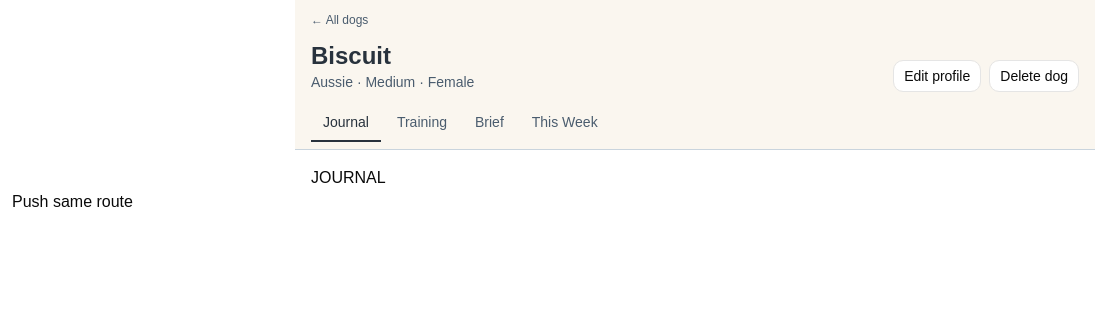
DogLayout › clears the stale guided setup conflict after navigating to another dog tab
Click the button "Delete dog" at (1034, 76), box [989,60,1079,92]
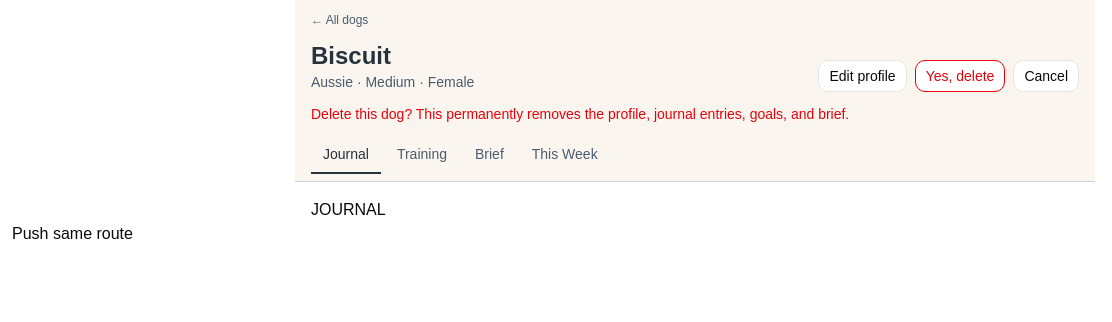
Click the button "Yes, delete" at (960, 76), box [915,60,1005,92]
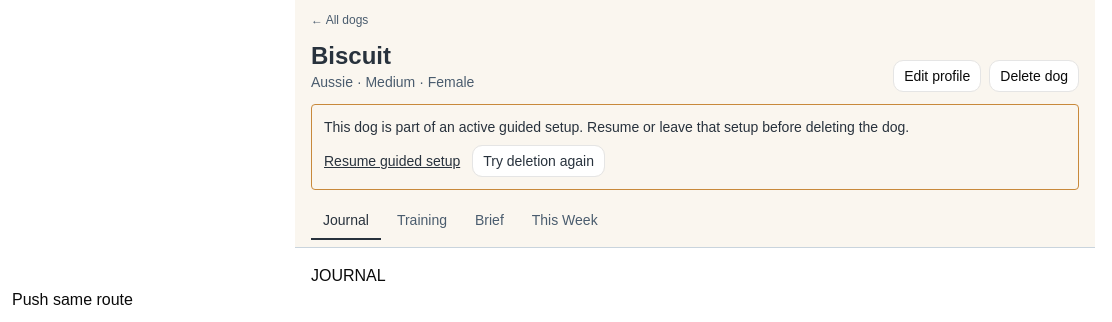
Check: the message is shown, box [311,104,1079,190]
Click the link "Training" at (422, 220), box [397,212,447,228]
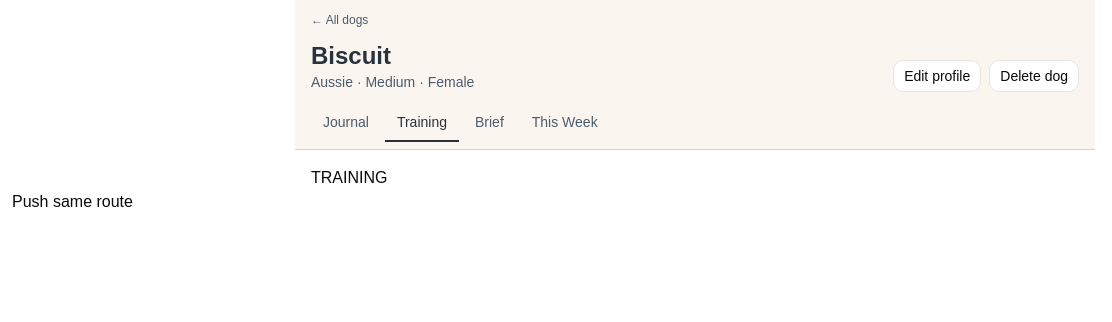
Check: the message is gone
